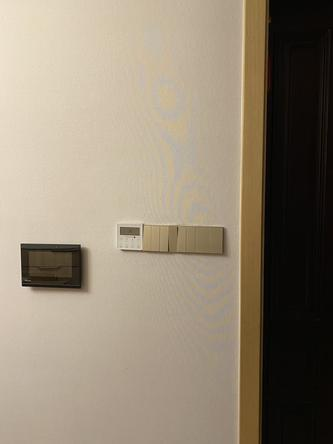switch: (167, 225, 177, 252), (158, 225, 167, 252), (144, 225, 151, 252), (151, 225, 158, 252)
